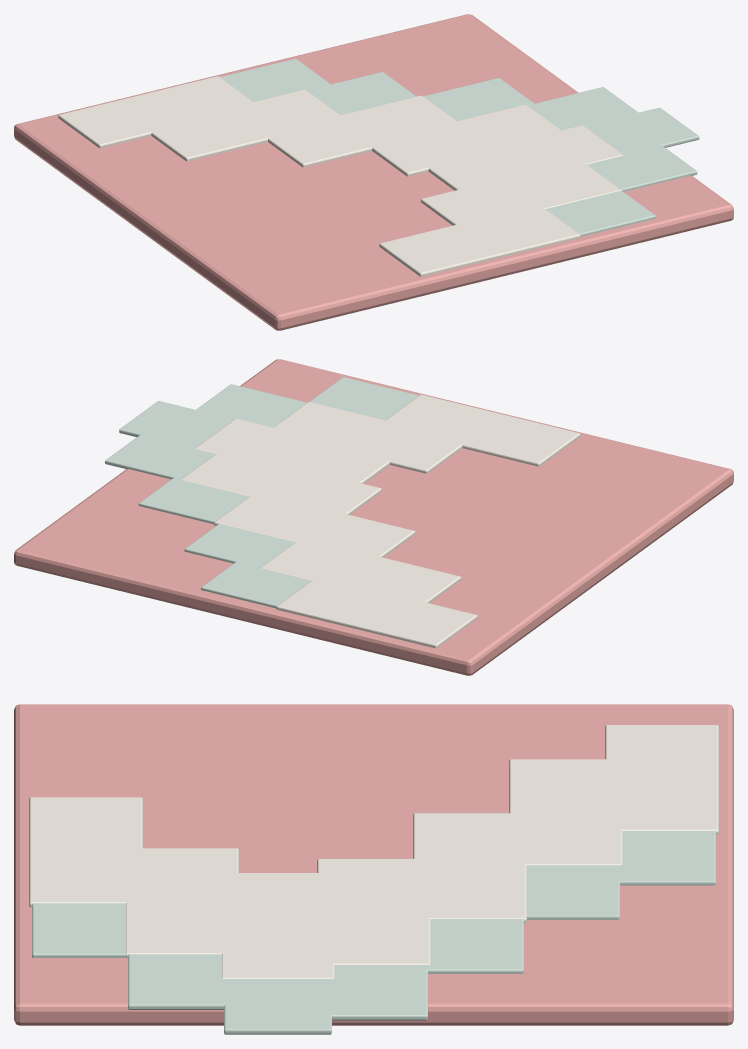
File: opera_terrazzo_tile.glb
3 renders of one model, top to bottom at view 1: azimuth 30°, elevation 25°; view 2: azimuth 150°, elevation 25°; view 3: azimuth 270°, elevation 25°, orthographic. The views are drawn at different scales.
Parts seen in each view (by area): view 1: opera_terrazzo_tile.001; view 2: opera_terrazzo_tile.001; view 3: opera_terrazzo_tile.001.
Part boxes in pixels (x1,y1,x2,y2): opera_terrazzo_tile.001: (14, 14, 733, 330); opera_terrazzo_tile.001: (14, 359, 733, 675); opera_terrazzo_tile.001: (14, 704, 733, 1034).
Bounding box in the file's own units: 6.54 × 0.24 × 6.
